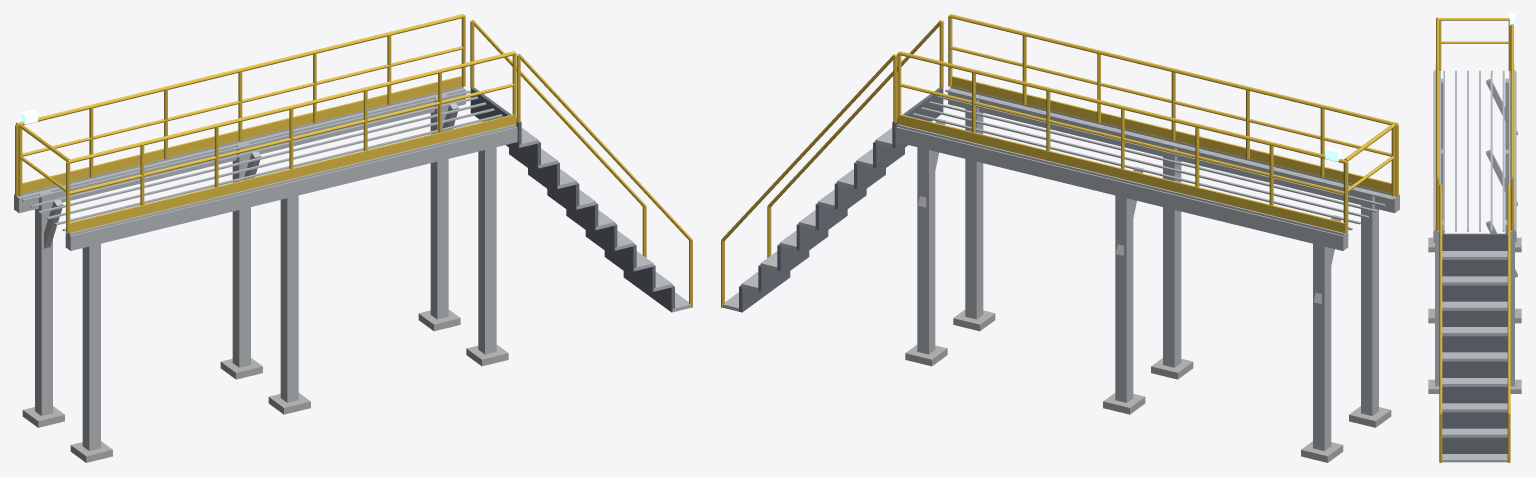
Rendered from ufo-crash-site-and-recovery-facility-observation-gantr-6799a2f4__17369.glb.
3 renders of one model, left to right at view 1: azimuth 30°, elevation 25°; view 2: azimuth 150°, elevation 25°; view 3: azimuth 270°, elevation 25°, orthographic. The views are drawn at different scales.
Visible parts, largest first — view 1: observation-gantry; view 2: observation-gantry; view 3: observation-gantry.
Part boxes in pixels (x1=…): observation-gantry: x1=14, y1=14, x2=692, y2=462; observation-gantry: x1=721, y1=14, x2=1399, y2=462; observation-gantry: x1=1428, y1=14, x2=1521, y2=462.
Size of the model in its own units: 9.85 by 4.62 by 1.72.
